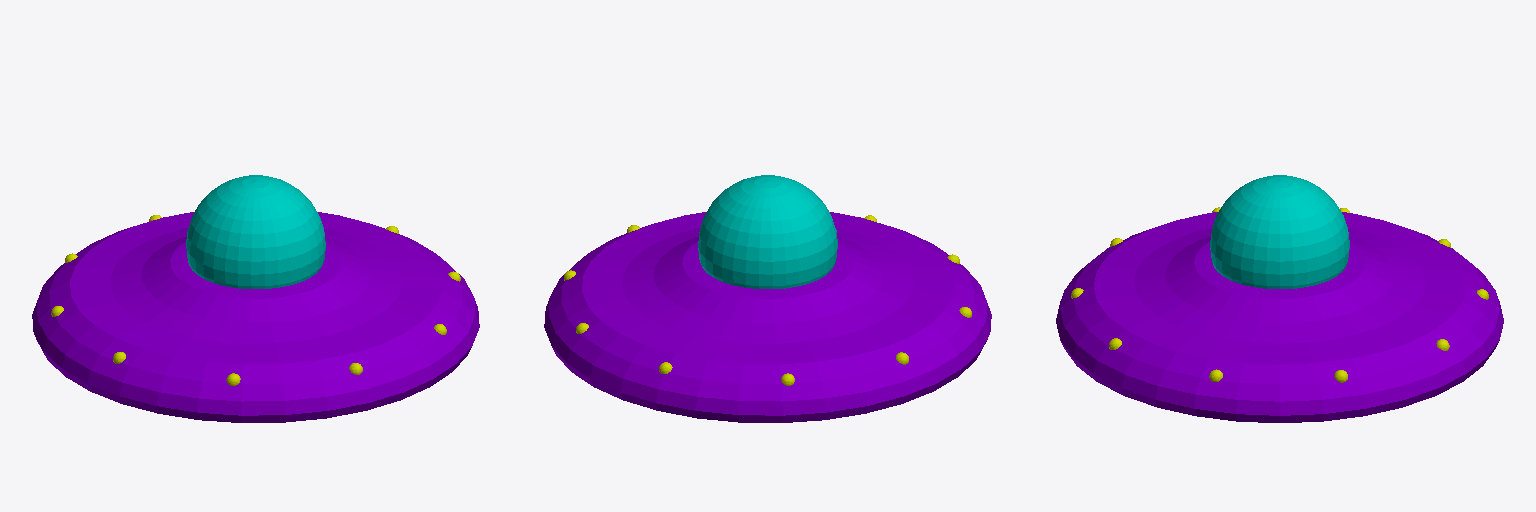
Rendered from enemy_ufo.obj.
3 views of the same model, side by side, from view 1: azimuth 30°, elevation 25°; view 2: azimuth 150°, elevation 25°; view 3: azimuth 270°, elevation 25° (orthographic).
Parts seen in each view (by area): view 1: Sphere, Sphere.001; view 2: Sphere, Sphere.001; view 3: Sphere, Sphere.001.
Boxes of the visible parts, box(x1,y1,x2,y2) form: Sphere: box(32, 212, 479, 422); Sphere.001: box(186, 175, 325, 288); Sphere: box(544, 212, 991, 422); Sphere.001: box(698, 175, 837, 288); Sphere: box(1056, 212, 1503, 422); Sphere.001: box(1210, 175, 1349, 288).
Bounding box in the file's own units: 640 × 234 × 640.